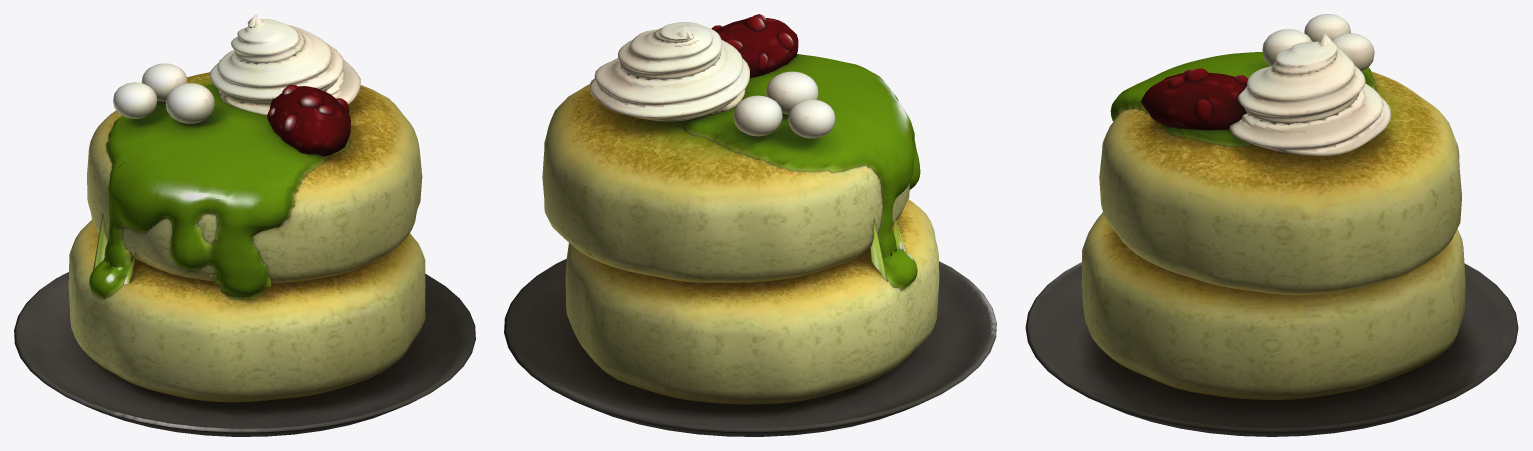
File: pancake--matcha-ground.glb
3 renders of one model, left to right at view 1: azimuth 30°, elevation 25°; view 2: azimuth 150°, elevation 25°; view 3: azimuth 270°, elevation 25°, orthographic. The views are drawn at different scales.
Visible parts, largest first — view 1: pancake_matcha-ground; view 2: pancake_matcha-ground; view 3: pancake_matcha-ground.
Boxes of the visible parts, box(x1,y1,x2,y2) form: pancake_matcha-ground: box(14, 14, 475, 436); pancake_matcha-ground: box(504, 14, 996, 436); pancake_matcha-ground: box(1025, 14, 1518, 436).
Bounding box in the file's own units: 0.936 × 0.7122 × 0.936.
1 material, 1 textured.
